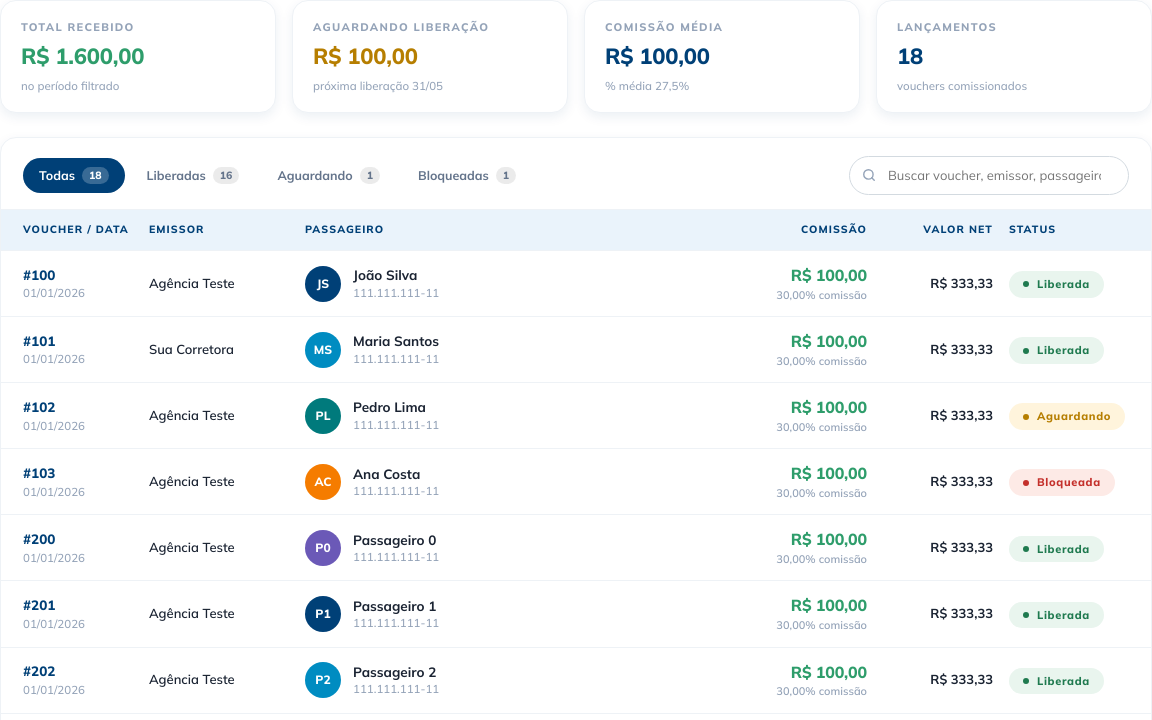
it: ComissoesListSection › busca filtra por nome, emissor ou id
Type "Maria" into the search field with placeholder "Buscar voucher, emissor, passageiro..." at (989, 176), box 849,156 -> 1129,195
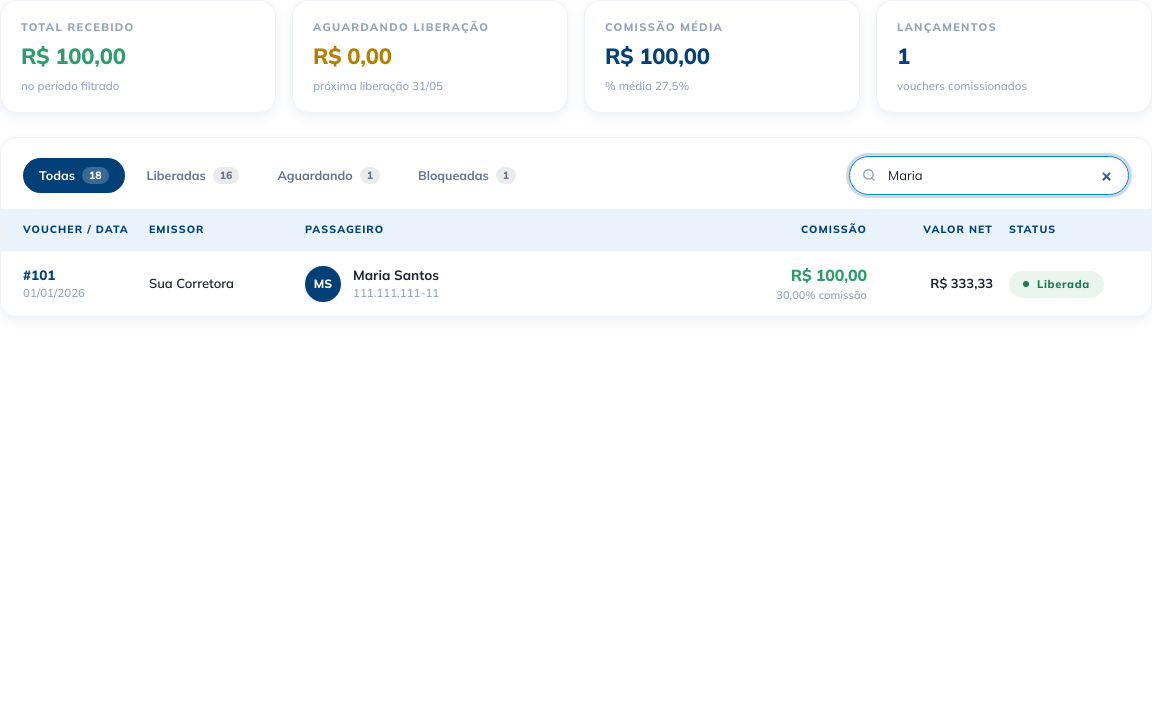
Expected: the text "#101" is shown, 23,266 -> 55,283
Result: the text "#100" is gone
